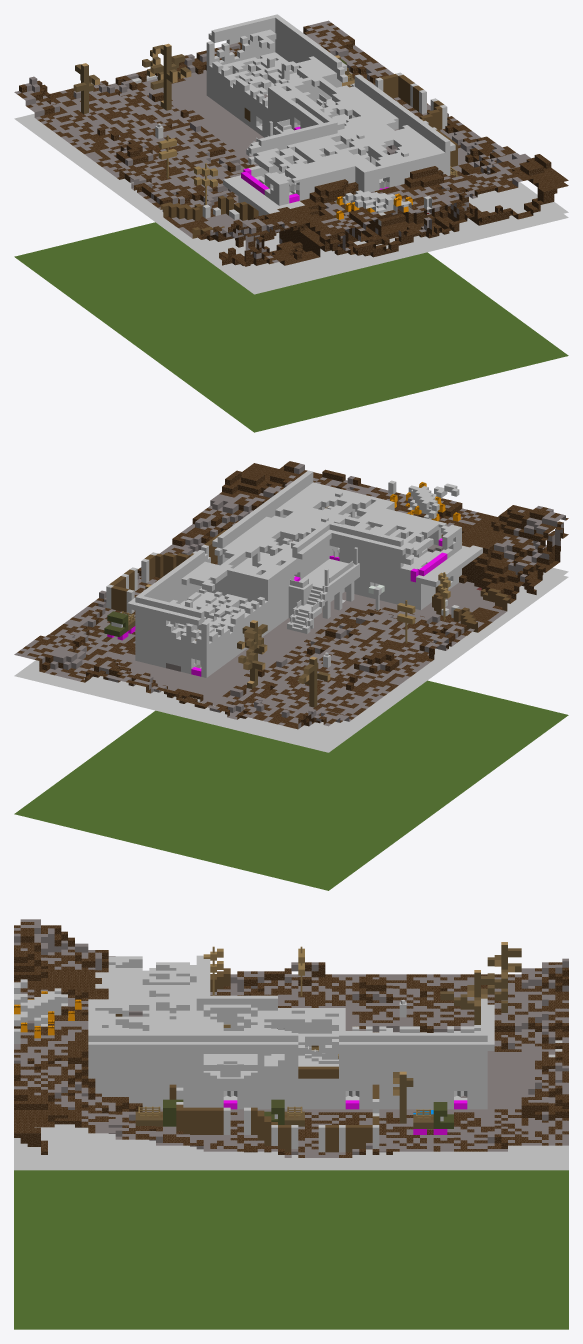
File: Nach_der_untoten_model.obj
3 views of the same model, one above another, from view 1: azimuth 30°, elevation 25°; view 2: azimuth 150°, elevation 25°; view 3: azimuth 270°, elevation 25° (orthographic). The views are drawn at different scales.
Visible parts, largest first — view 1: dirt_grass_top, dirt, gravel, stone, stone_brick, bedrock, plank_spruce, log_oak_side, iron_block, stone_slab_top, plank_oak, log_oak_top; view 2: dirt_grass_top, gravel, dirt, stone_brick, stone, bedrock, plank_spruce, log_oak_side, stone_slab_top, iron_block, plank_oak, unknown (+3 smaller); view 3: dirt_grass_top, dirt, gravel, stone_brick, stone, bedrock, plank_spruce, log_oak_side, iron_block, stone_slab_top, stained_clay_green, plank_oak (+3 smaller).
Part boxes in pixels (x1,y1,x2,y2): dirt_grass_top: [14, 222, 568, 432]; dirt: [17, 23, 568, 266]; gravel: [14, 20, 530, 262]; stone: [206, 29, 445, 215]; stone_brick: [206, 14, 455, 215]; bedrock: [14, 113, 568, 294]; plank_spruce: [160, 74, 457, 239]; log_oak_side: [74, 45, 458, 176]; iron_block: [155, 126, 431, 225]; stone_slab_top: [223, 52, 388, 195]; plank_oak: [158, 72, 457, 204]; log_oak_top: [73, 43, 354, 102]; dirt_grass_top: [14, 680, 568, 890]; gravel: [14, 463, 565, 728]; dirt: [17, 461, 568, 729]; stone_brick: [106, 470, 461, 674]; stone: [135, 484, 482, 677]; bedrock: [14, 567, 568, 752]; plank_spruce: [109, 506, 510, 641]; log_oak_side: [128, 586, 329, 707]; stone_slab_top: [169, 526, 445, 640]; iron_block: [323, 480, 459, 667]; plank_oak: [121, 572, 450, 643]; unknown: [107, 538, 447, 676]; dirt_grass_top: [14, 1170, 568, 1329]; dirt: [14, 922, 568, 1157]; gravel: [14, 919, 568, 1157]; stone_brick: [88, 955, 494, 1152]; stone: [95, 956, 487, 1109]; bedrock: [14, 1124, 568, 1170]; plank_spruce: [115, 968, 433, 1152]; log_oak_side: [135, 945, 521, 1128]; iron_block: [14, 979, 406, 1043]; stone_slab_top: [129, 997, 467, 1100]; stained_clay_green: [163, 1099, 453, 1128]; plank_oak: [138, 946, 430, 1121].
Bounding box in the file's own units: 62 × 40 × 82.
